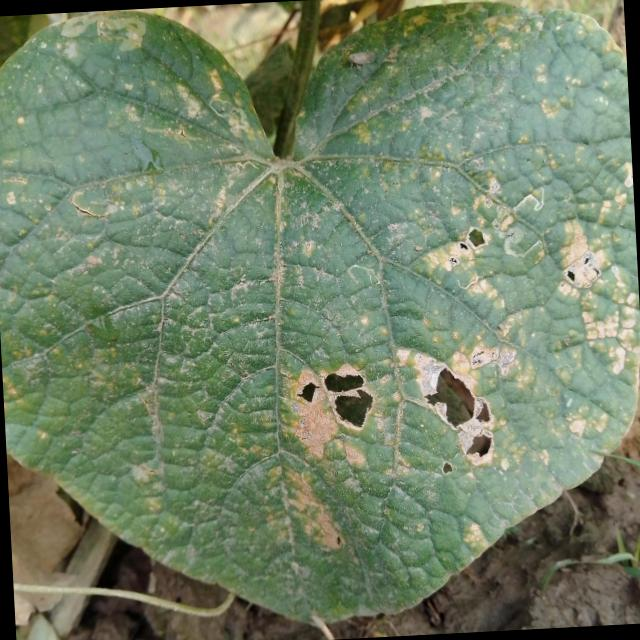cucumber_anthracnose: (0, 0, 625, 483)
